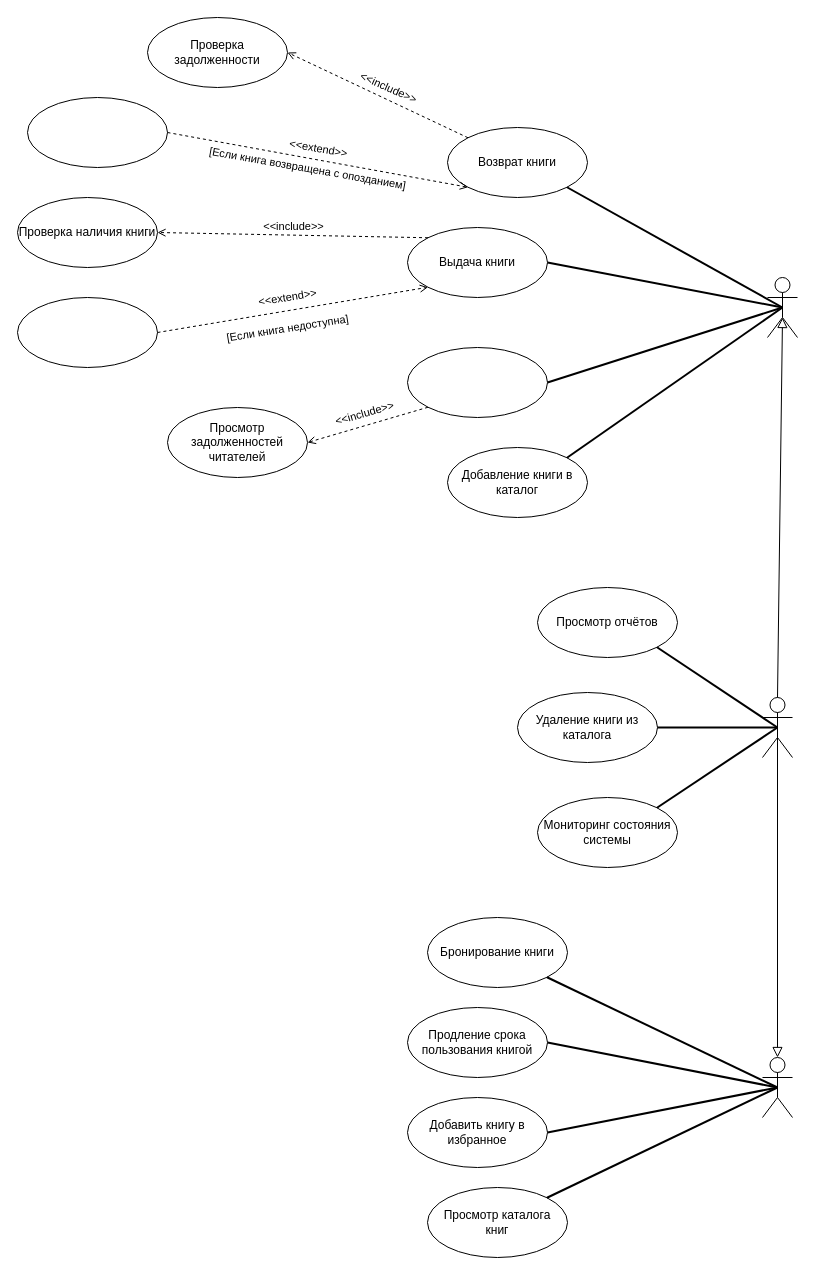
Image size: 839x1275. Some labels were removed from this diagram. The shapes that lost their labels are listed below. From the top down, each one's box as (x1, y1, x2, y2) in pixels, then its label:
(26, 96, 168, 168): Начисление штрафа за просрочку
(766, 276, 798, 338): Библиотекарь
(16, 296, 158, 368): Резервирование книги
(406, 346, 548, 418): Формирование отчёта по книгам
(762, 696, 792, 758): Администратор
(762, 1056, 792, 1118): Читатель
